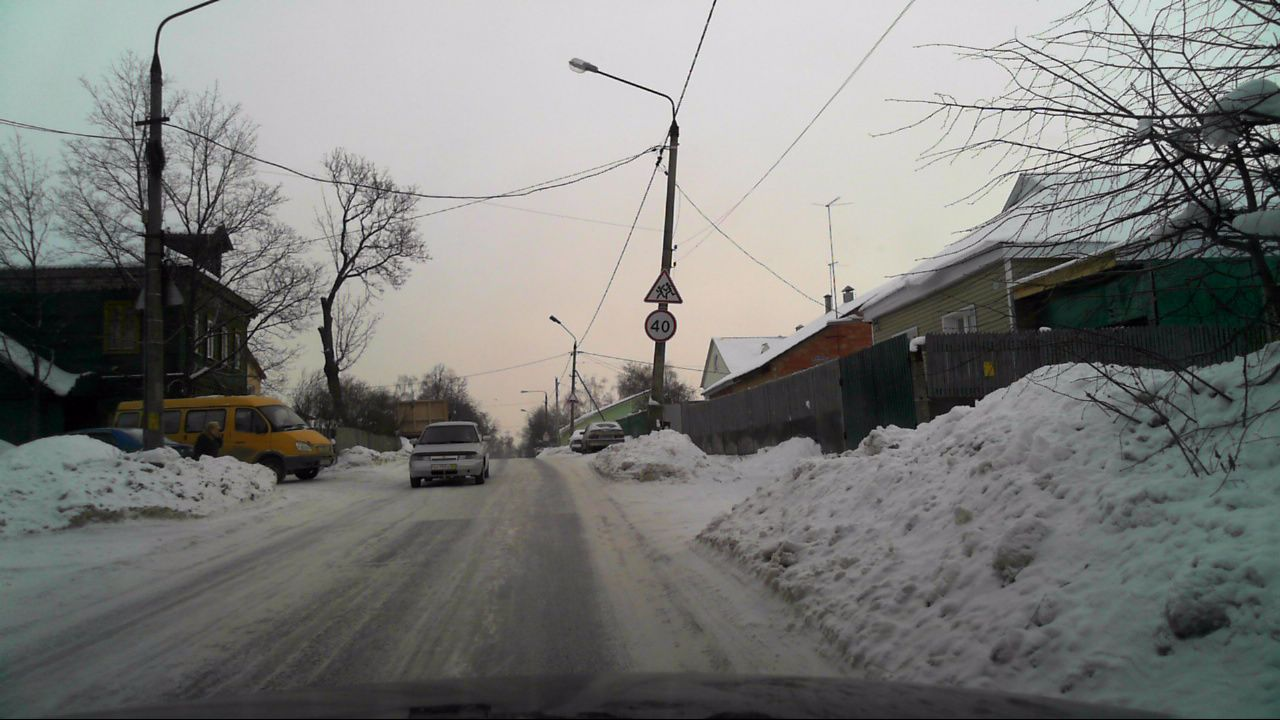speed_warning_40: (645, 309, 677, 341)
